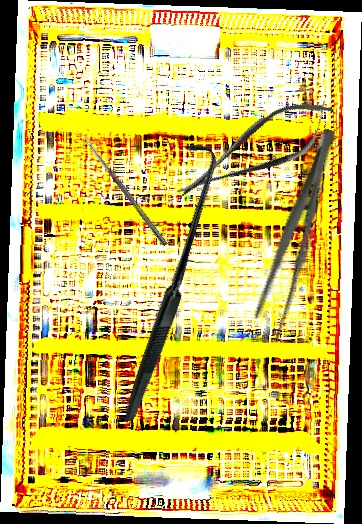Dressing Forceps: (249, 124, 347, 342)
Hook Surgical: (21, 137, 310, 422)
Micro Scissor: (164, 84, 346, 217)
Surgical Spoon: (82, 135, 169, 247)
